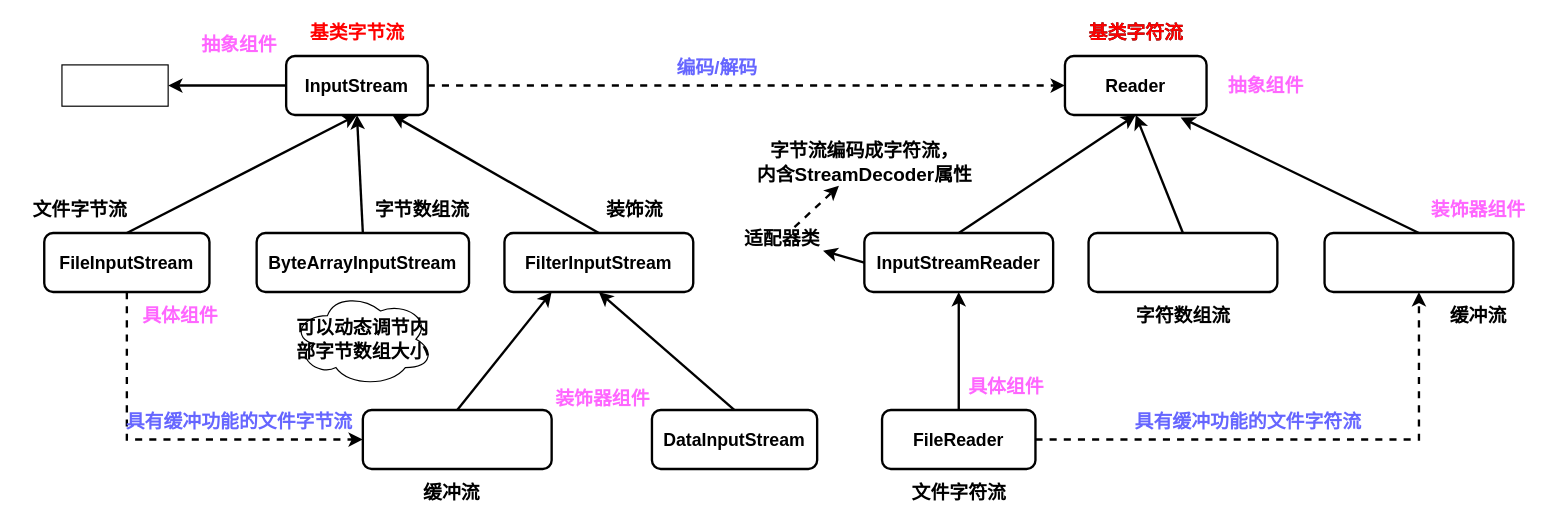
Image size: 1556x524. Some labels were removed from this diagram. Here are the shapes that lost their labels. From the top down, the centre of each, then its label:
At pixel 114 85: "read()方法".
At pixel 1182 262: "CharArrayReader".
At pixel 1418 262: "BufferedReader".
At pixel 456 439: "BufferedInputStream".
